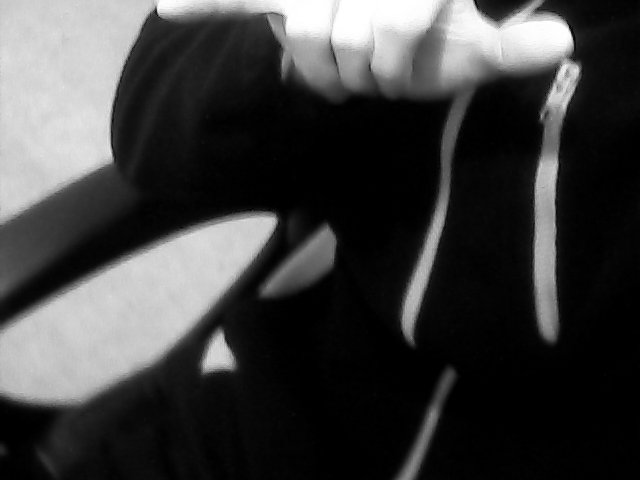aloha: (157, 1, 576, 106)
